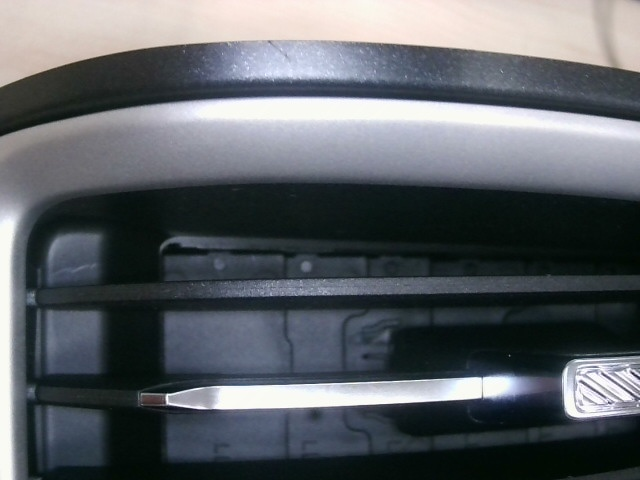NG: (253, 31, 316, 91)
